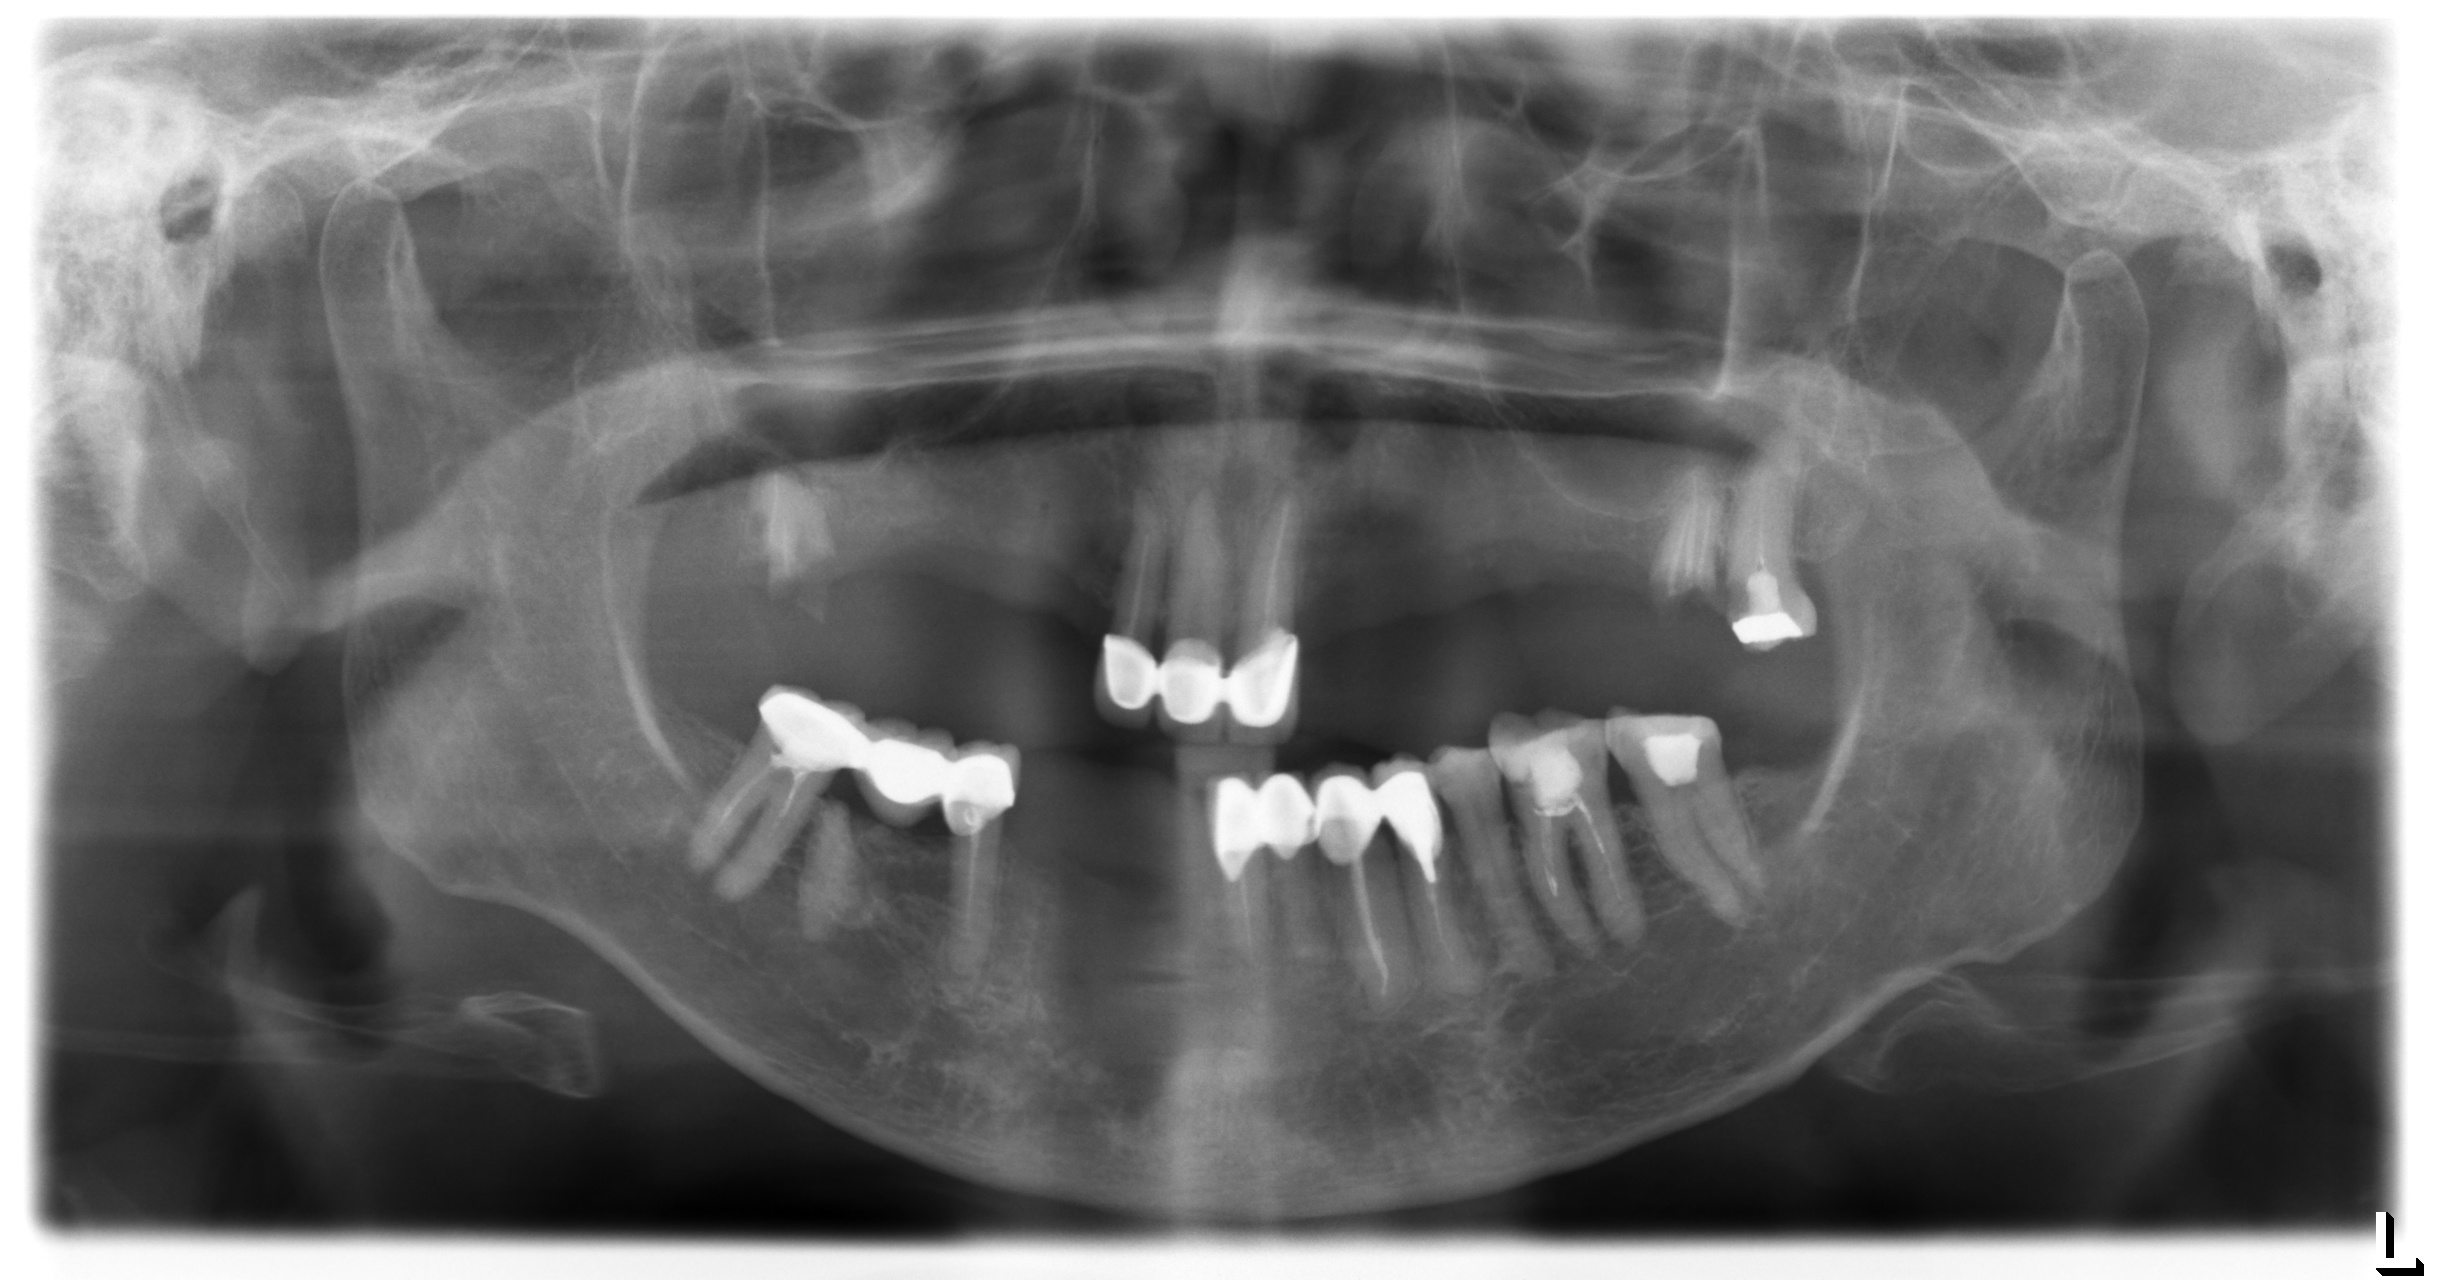Decay: (747, 458, 838, 625), (1648, 462, 1722, 609), (1720, 565, 1765, 630)
